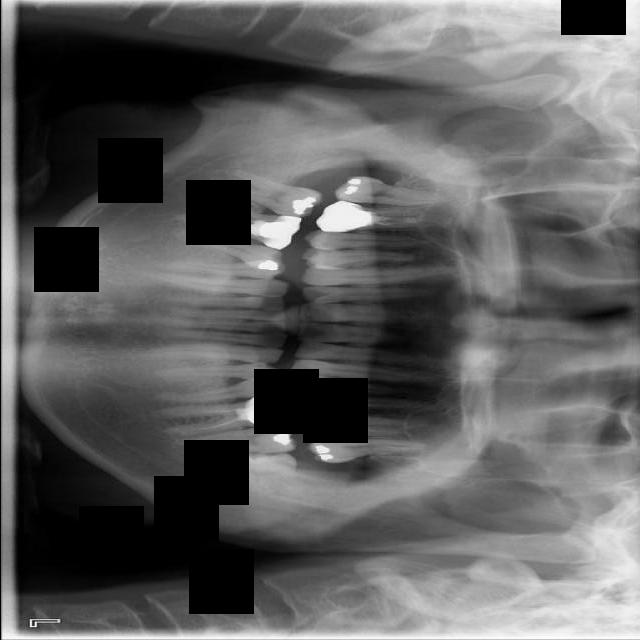52: (244, 208, 302, 254), (265, 182, 324, 224), (280, 371, 339, 399), (295, 410, 349, 440), (315, 201, 367, 232), (241, 394, 286, 429), (251, 423, 299, 454), (331, 175, 384, 203), (305, 438, 355, 463), (239, 257, 286, 282)
73: (158, 399, 257, 439), (345, 202, 447, 232), (51, 609, 70, 617)
BioHorizons Implant: (306, 439, 431, 464)
Biomet 3i Implant: (222, 447, 303, 500)
Blue Sky Bio Implant: (175, 422, 299, 459)
Caries: (332, 174, 455, 210)
Implant: (208, 162, 326, 227)
